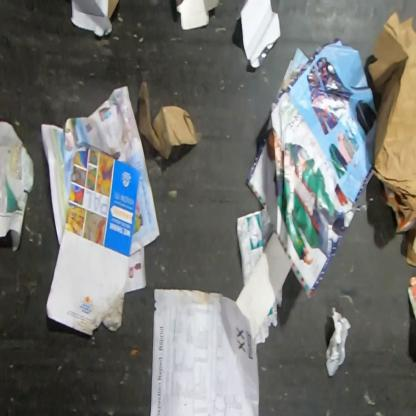cardboard: (45, 141, 142, 337), (366, 10, 415, 212), (136, 80, 198, 160), (70, 0, 120, 38), (379, 184, 415, 235), (176, 0, 218, 31), (406, 275, 415, 324)
